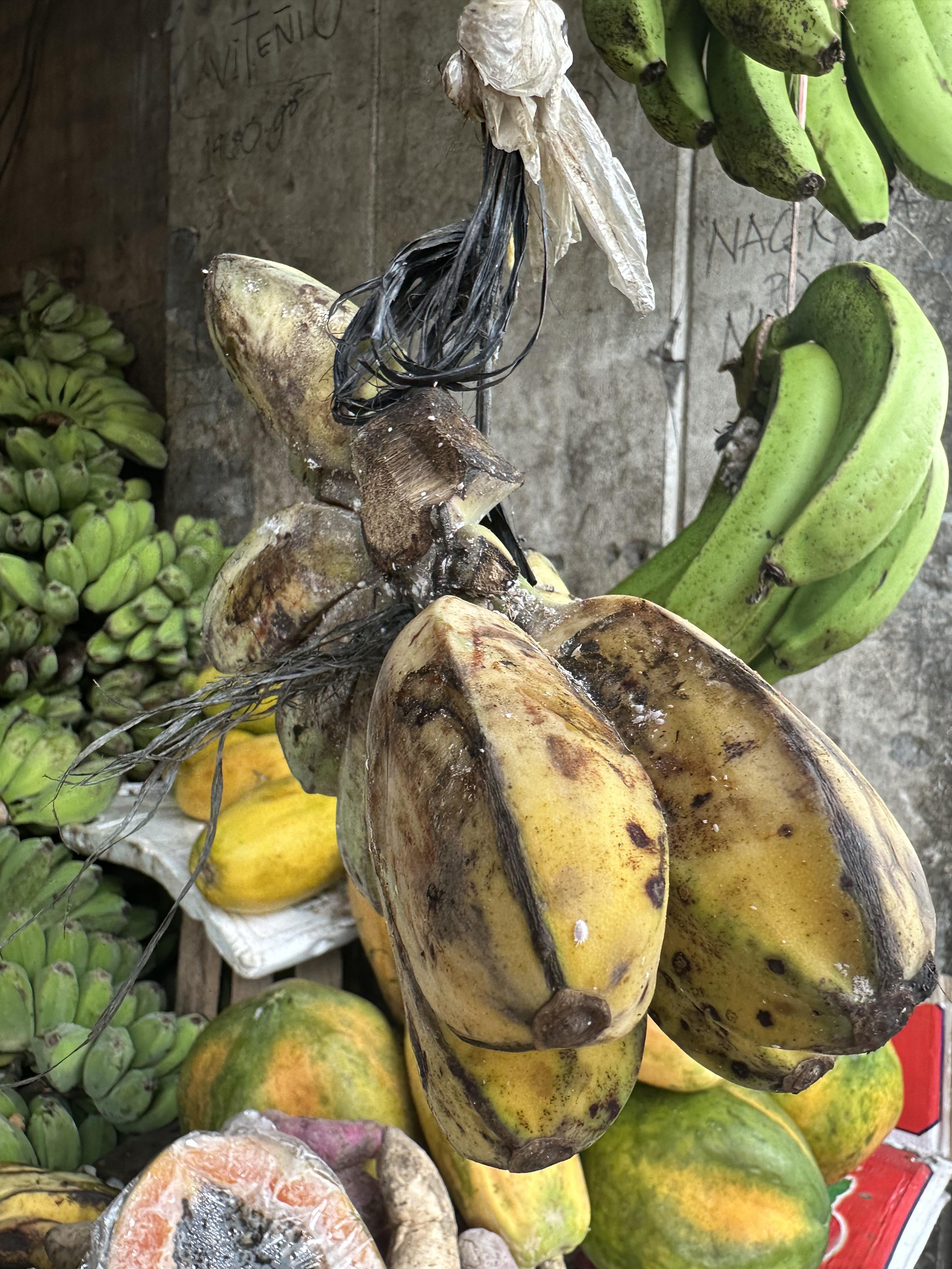underripe: (273, 593, 940, 1171)
